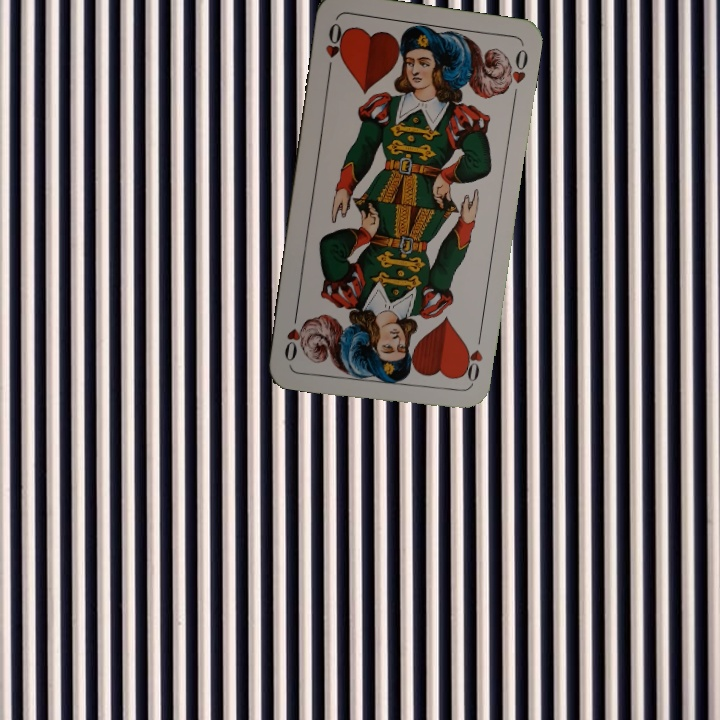HO: (322, 19, 348, 76), (458, 341, 486, 389)
